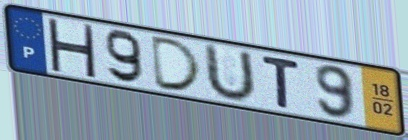9: (313, 64, 358, 121), (103, 30, 145, 86)
D: (149, 34, 206, 94)
H: (45, 16, 98, 81)
T: (259, 53, 303, 112)
U: (204, 42, 258, 104)
